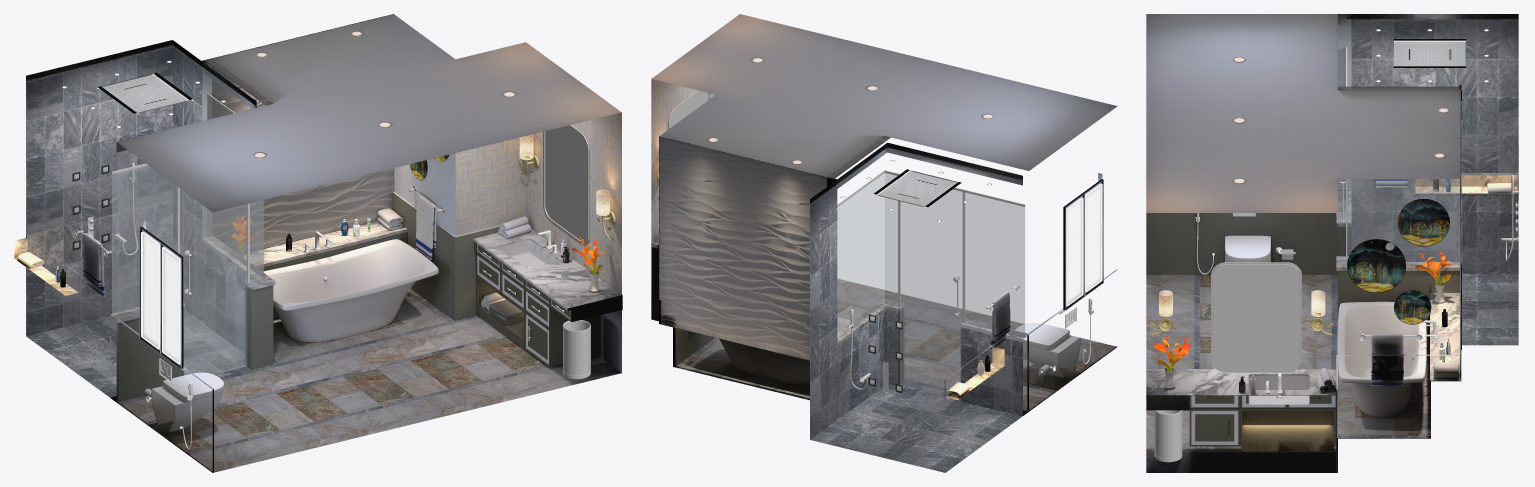
The picture shows the model from 3 angles, left to right: view 1: azimuth 30°, elevation 25°; view 2: azimuth 150°, elevation 25°; view 3: azimuth 270°, elevation 25°; orthographic projection. The views are drawn at different scales.
Parts seen in each view (by area): view 1: ceiling_passage_1, floor_27, bathroom_wall_5, enclosure_glass_18, sidewall_31, vanityside_wall_29, ceramic_objects_0, vanitycounter_30, artistictile_wall_28, window_15, mirror_glass_17, showerpanel_7 (+9 smaller); view 2: ceiling_passage_1, artistictile_wall_28, enclosure_glass_18, floor_27, bathroom_wall_5, sidewall_31, ceramic_objects_0, window_15, vanityside_wall_29, showerpanel_7, enclosure_body_19, towel02_23 (+2 smaller); view 3: ceiling_passage_1, bathroom_wall_5, floor_27, sidewall_31, vanitycounter_30, ceramic_objects_0, mirror_glass_17, enclosure_glass_18, decoreplate_22, towel01_20, showerpanel_7, dustbin_11 (+6 smaller).
Boxes of the visible parts, x1,y1,x2,y2 form: ceiling_passage_1: (117,14,621,212); floor_27: (26,289,621,472); bathroom_wall_5: (14,40,252,352); enclosure_glass_18: (112,96,263,374); sidewall_31: (110,60,455,472); vanityside_wall_29: (455,112,621,372); ceramic_objects_0: (151,239,558,432); vanitycounter_30: (473,229,622,366); artistictile_wall_28: (205,17,394,252); window_15: (139,226,183,368); mirror_glass_17: (545,125,586,242); showerpanel_7: (101,74,189,113); ceiling_passage_1: (651,14,1117,178); artistictile_wall_28: (659,136,836,360); enclosure_glass_18: (837,173,1024,398); floor_27: (651,278,1117,472); bathroom_wall_5: (810,179,1022,439); sidewall_31: (659,138,1117,411); ceramic_objects_0: (719,317,1080,385); window_15: (1063,179,1103,310); vanityside_wall_29: (651,79,715,319); showerpanel_7: (877,170,957,207); enclosure_body_19: (837,170,1025,322); towel02_23: (946,291,1010,397); ceiling_passage_1: (1146,14,1461,212); bathroom_wall_5: (1351,14,1518,273); floor_27: (1146,274,1518,472); sidewall_31: (1146,14,1461,384); vanitycounter_30: (1146,369,1336,451); ceramic_objects_0: (1225,235,1426,417); mirror_glass_17: (1214,264,1298,370); enclosure_glass_18: (1347,124,1461,264); decoreplate_22: (1347,198,1449,324); towel01_20: (1371,179,1458,386); showerpanel_7: (1394,41,1465,66); dustbin_11: (1154,410,1182,462).
Size of the model in its own units: 502 by 297 by 386.
33 materials, 1 textured.
